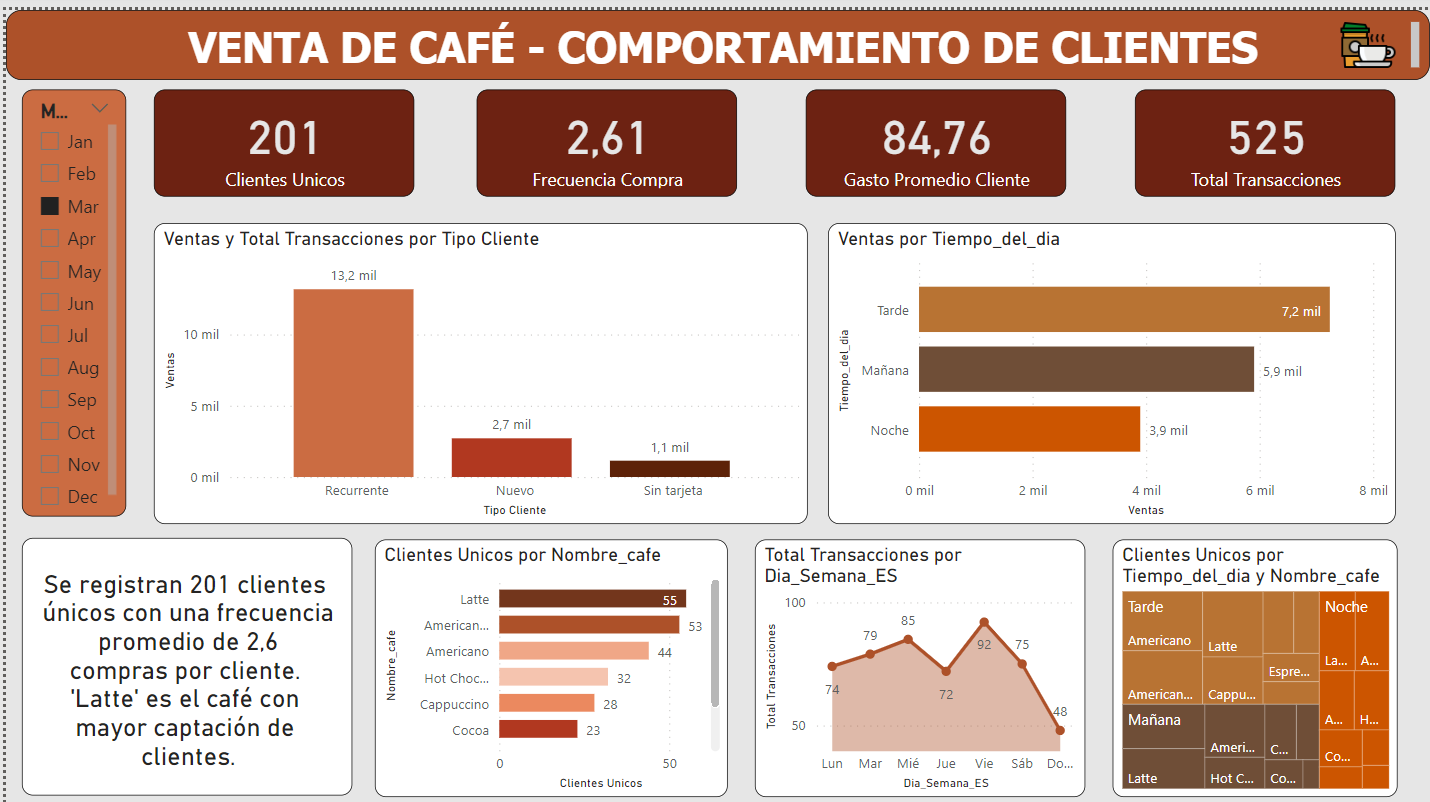

What the dashboard file says about the page in this screenshot:
{"tool":"powerbi","page":{"name":"Clientes","canvas":[1280,720],"ordinal":1},"visuals":[{"type":"textbox","box":[0,0,1279.4,63.1],"z":0},{"type":"card","fields":{"Values":["Medidas.Clientes Unicos"]},"box":[133.5,72,234,96],"z":1000},{"type":"slicer","fields":{"Values":["index_1.Nombre_del_mes"]},"box":[14.4,72.1,93.7,383.8],"z":2000},{"type":"image","box":[1182.9,0,81.4,62.9],"z":3000},{"type":"card","fields":{"Values":["Medidas.Frecuencia Compra"]},"box":[423,72,234,96],"z":4000},{"type":"card","fields":{"Values":["Medidas.Gasto Promedio Cliente"]},"box":[718.5,72,234,96],"z":5000},{"type":"card","fields":{"Values":["Medidas.Total Transacciones"]},"box":[1014,72,234,96],"z":6000},{"type":"barChart","fields":{"Y":["Medidas.Ventas"],"Category":["index_1.Tiempo_del_dia"]},"box":[738.8,191,510,270.3],"z":7000},{"type":"clusteredColumnChart","fields":{"Category":["index_1.Tipo Cliente"],"Y":["Medidas.Ventas"]},"box":[133.4,191,587.5,270.3],"z":8000},{"type":"barChart","fields":{"Category":["index_1.Nombre_cafe"],"Y":["Medidas.Clientes Unicos"]},"box":[331.4,475.7,317.1,231.4],"z":9000},{"type":"treemap","fields":{"Values":["Medidas.Clientes Unicos"],"Group":["index_1.Tiempo_del_dia"],"Details":["index_1.Nombre_cafe"]},"box":[994.3,475.7,255.7,231.4],"z":10000},{"type":"card","fields":{"Values":["Medidas.Insight Clientes"]},"box":[14.3,474.3,297.1,231.4],"z":11000},{"type":"areaChart","fields":{"Y":["Medidas.Total Transacciones"],"Category":["index_1.Dia_Semana_ES"]},"box":[672.9,475.7,297.1,231.4],"z":12000}]}

Visuals, with their boxes in screenshot pixels (x1, y1, x2, y2), scaled from the page's 1280x720 canvas onto the 1430x802 screenshot:
textbox: bbox=(0, 0, 1429, 70)
card - Medidas.Clientes Unicos: bbox=(149, 80, 411, 187)
slicer - index_1.Nombre_del_mes: bbox=(16, 80, 121, 508)
image: bbox=(1322, 0, 1412, 70)
card - Medidas.Frecuencia Compra: bbox=(473, 80, 734, 187)
card - Medidas.Gasto Promedio Cliente: bbox=(803, 80, 1064, 187)
card - Medidas.Total Transacciones: bbox=(1133, 80, 1394, 187)
barChart - Medidas.Ventas x index_1.Tiempo_del_dia: bbox=(825, 213, 1395, 514)
clusteredColumnChart - index_1.Tipo Cliente x Medidas.Ventas: bbox=(149, 213, 805, 514)
barChart - index_1.Nombre_cafe x Medidas.Clientes Unicos: bbox=(370, 530, 724, 788)
treemap - Medidas.Clientes Unicos x index_1.Tiempo_del_dia: bbox=(1111, 530, 1396, 788)
card - Medidas.Insight Clientes: bbox=(16, 528, 348, 786)
areaChart - Medidas.Total Transacciones x index_1.Dia_Semana_ES: bbox=(752, 530, 1084, 788)
